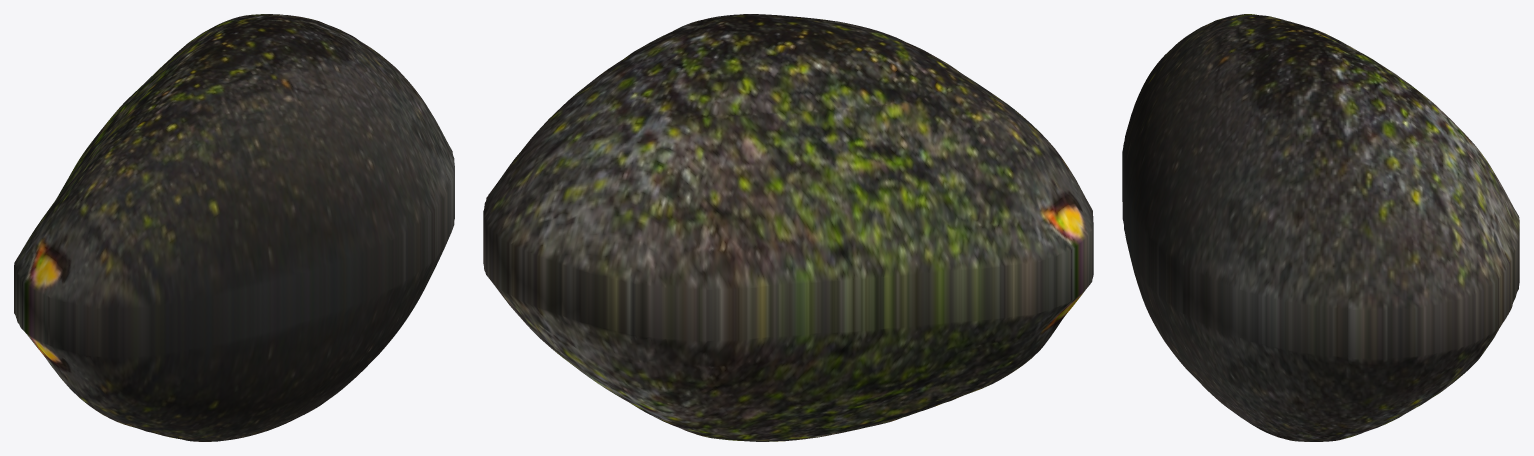
The model's file is avocado_7.obj.
The picture shows the model from 3 angles, left to right: view 1: azimuth 30°, elevation 25°; view 2: azimuth 150°, elevation 25°; view 3: azimuth 270°, elevation 25°; orthographic projection. The views are drawn at different scales.
Visible parts, largest first — view 1: Grid; view 2: Grid; view 3: Grid.
Boxes of the visible parts, x1,y1,x2,y2 form: Grid: [14, 14, 454, 441]; Grid: [483, 14, 1093, 441]; Grid: [1122, 14, 1519, 441].
Bounding box in the file's own units: 2.06 × 1.6 × 1.52.
1 material, 1 textured.
